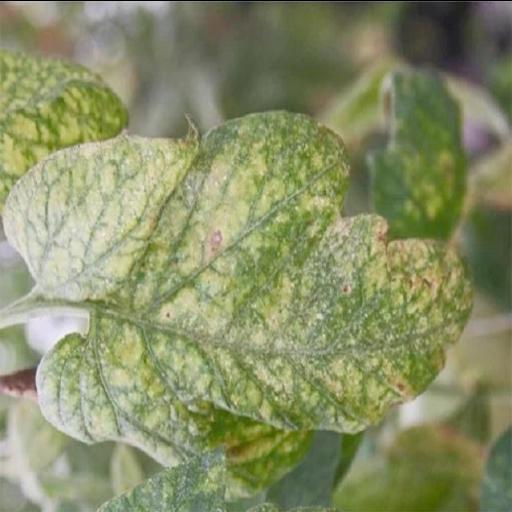Spider Mites: (2, 107, 472, 466)
